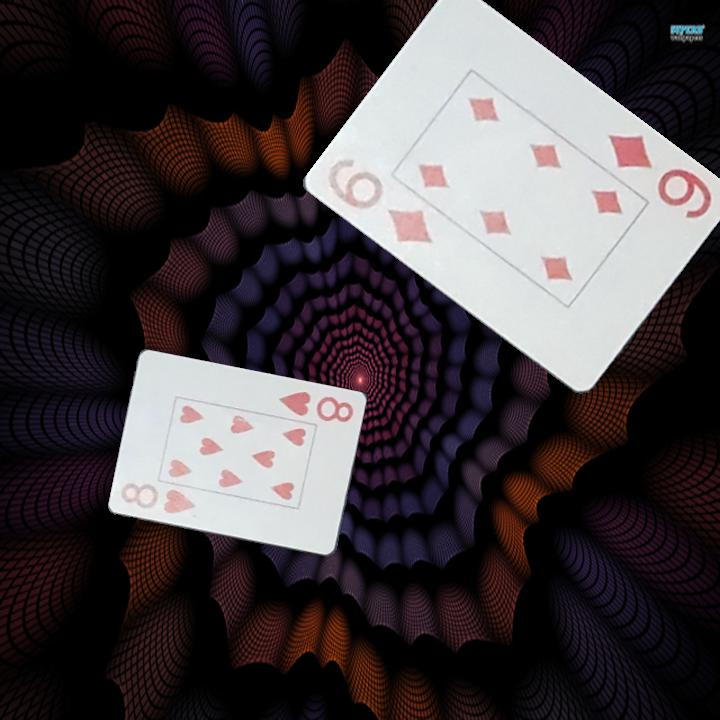6d: (322, 154, 436, 247), (604, 130, 718, 222)
8h: (117, 478, 199, 516), (276, 388, 357, 425)
